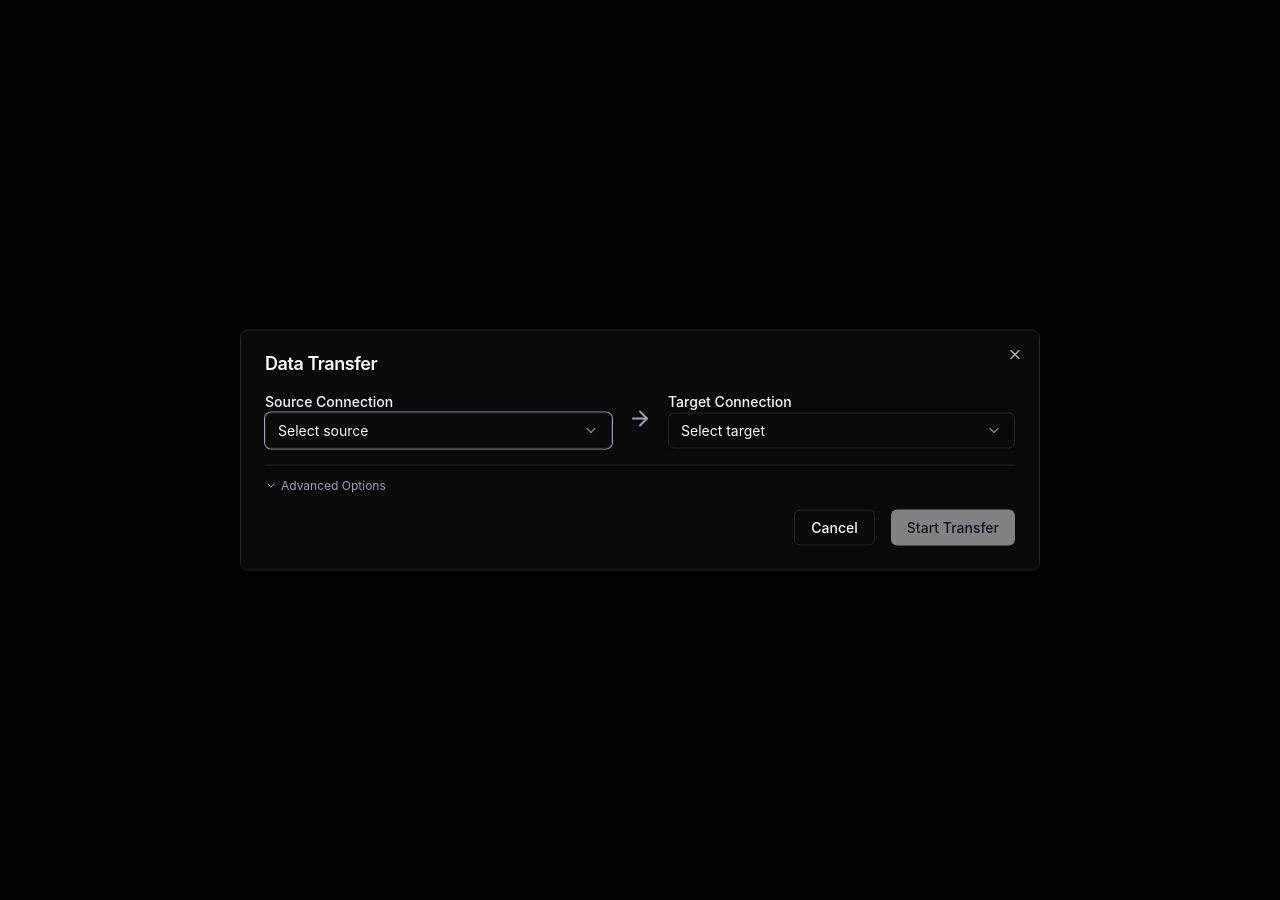
Test case: renders table checkboxes after selecting source database
The image size is (1280, 900).
Click the dropdown "Select source" at (323, 430), box [265,412,612,448]
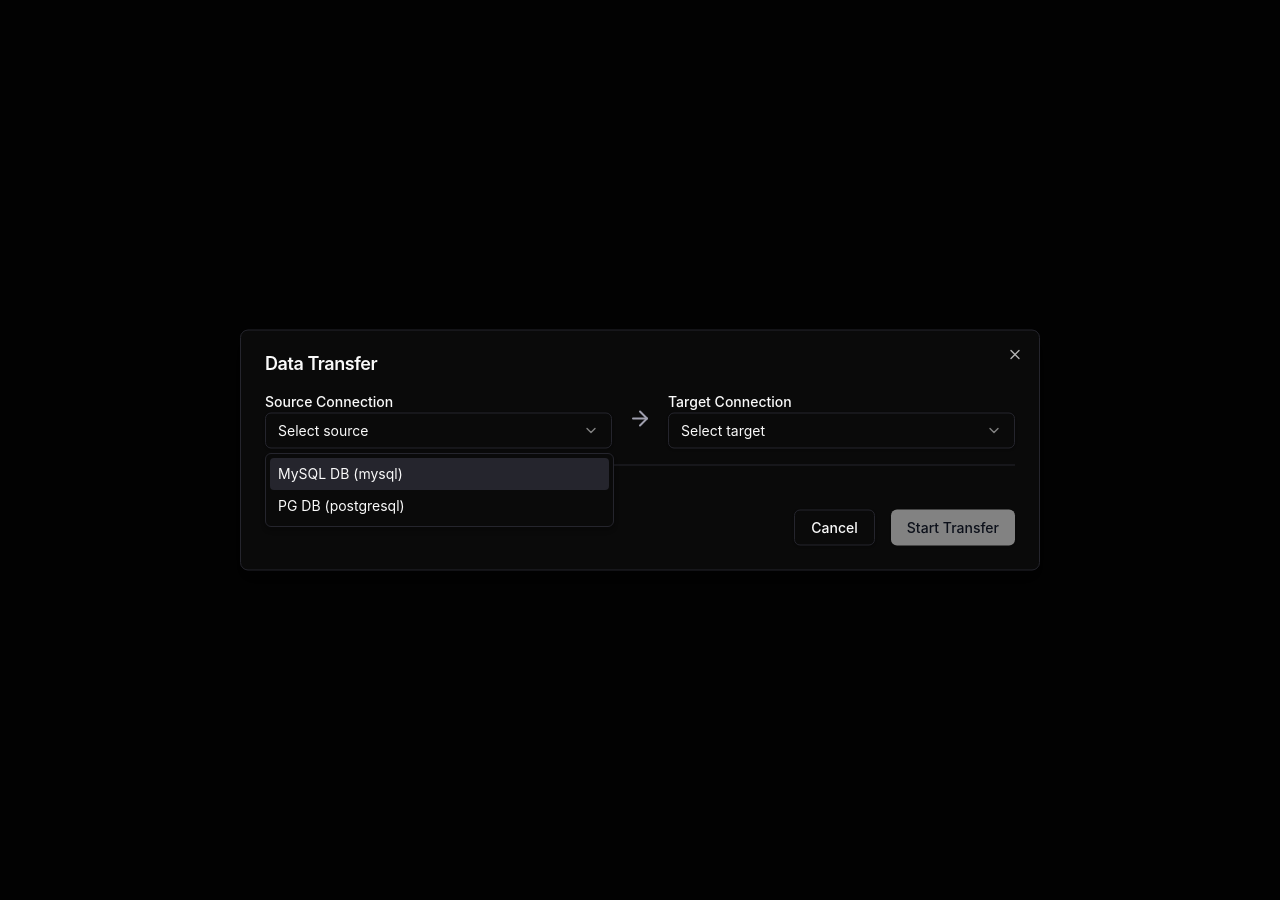
Click the option "MySQL DB (mysql)" at (314, 474), box [270,458,609,490]
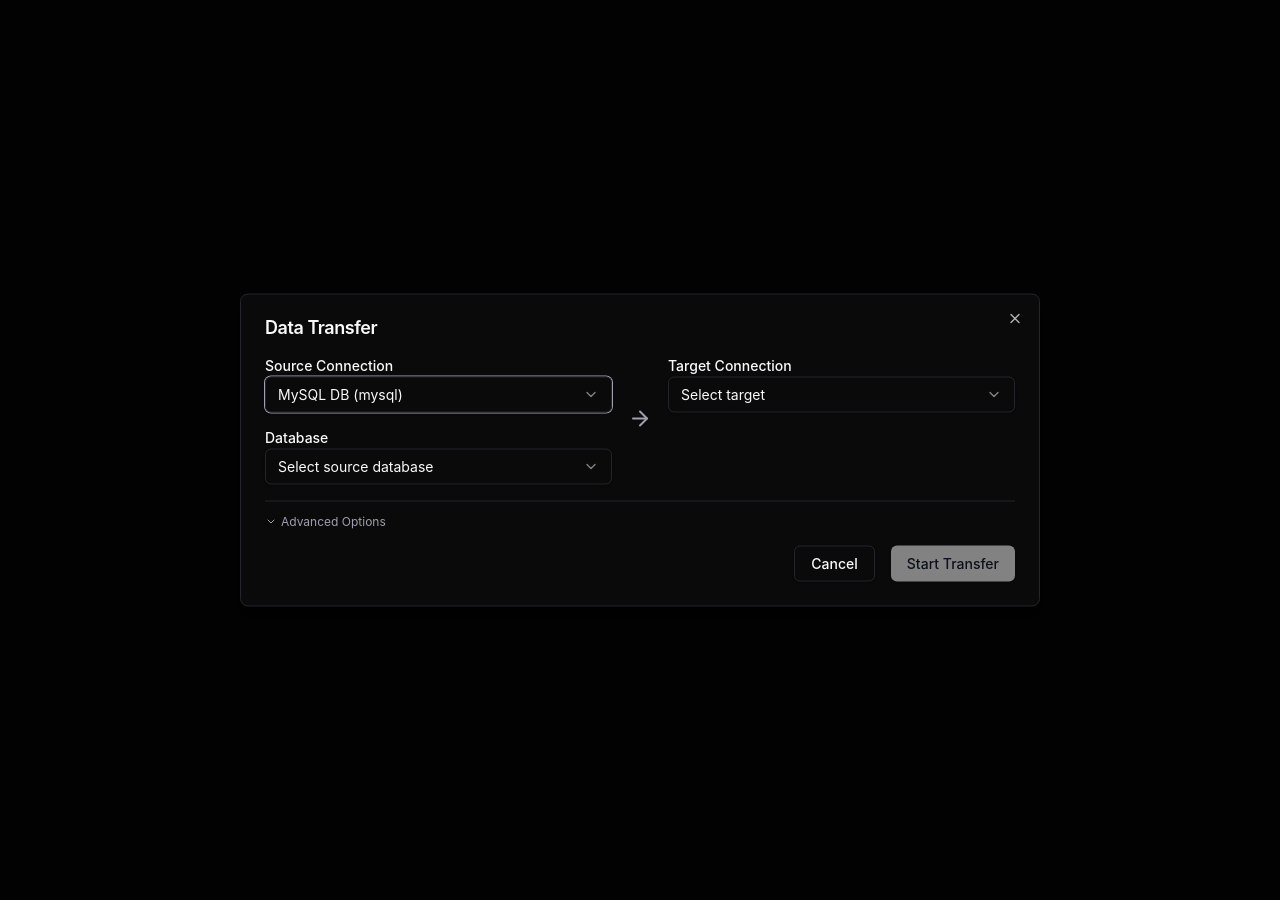
Result: the text "Select source database" is shown at [278,456,434,476]
Click the dropdown "Select source database" at (356, 466), box [265,448,612,484]
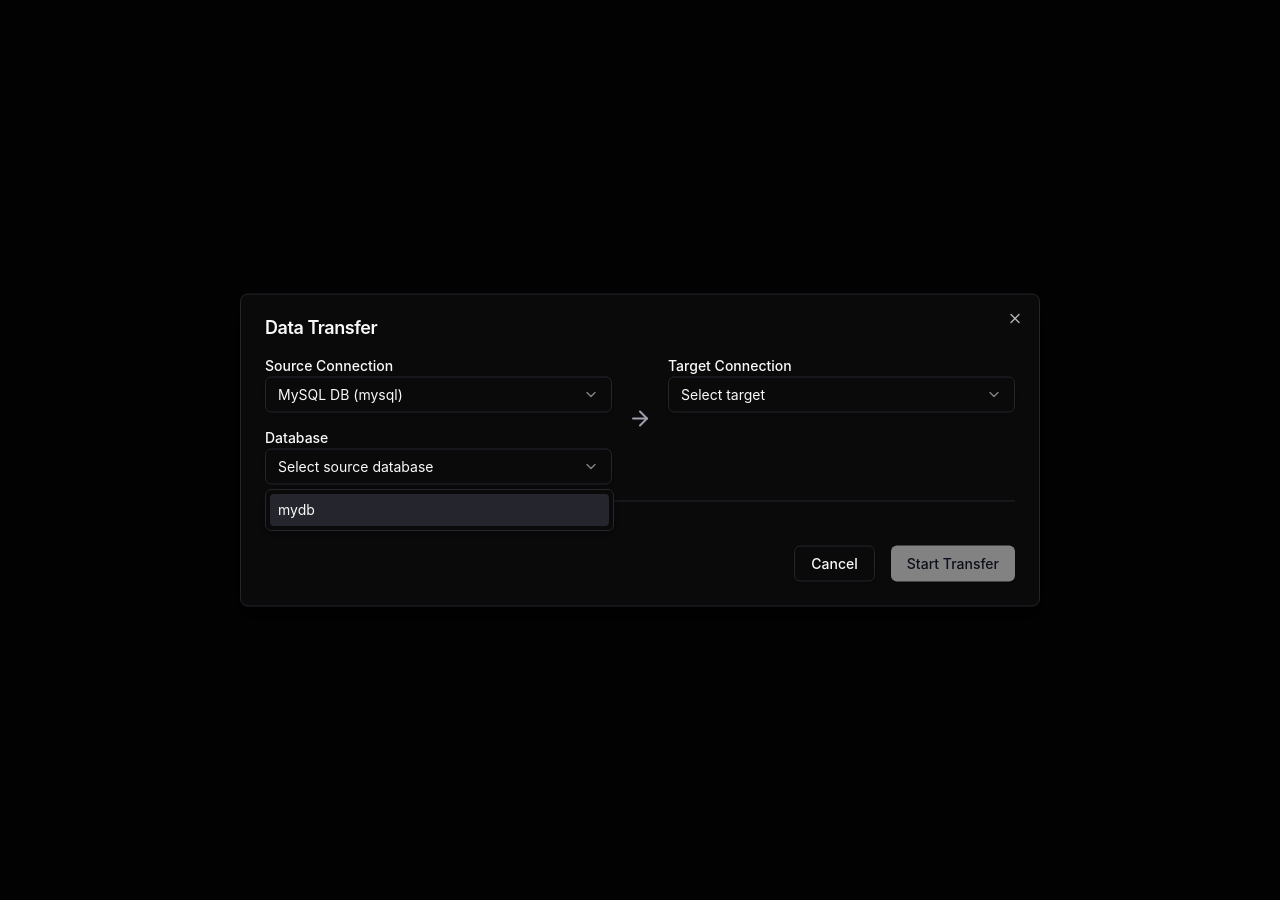
Click the option "mydb" at (296, 510), box [270,494,609,526]
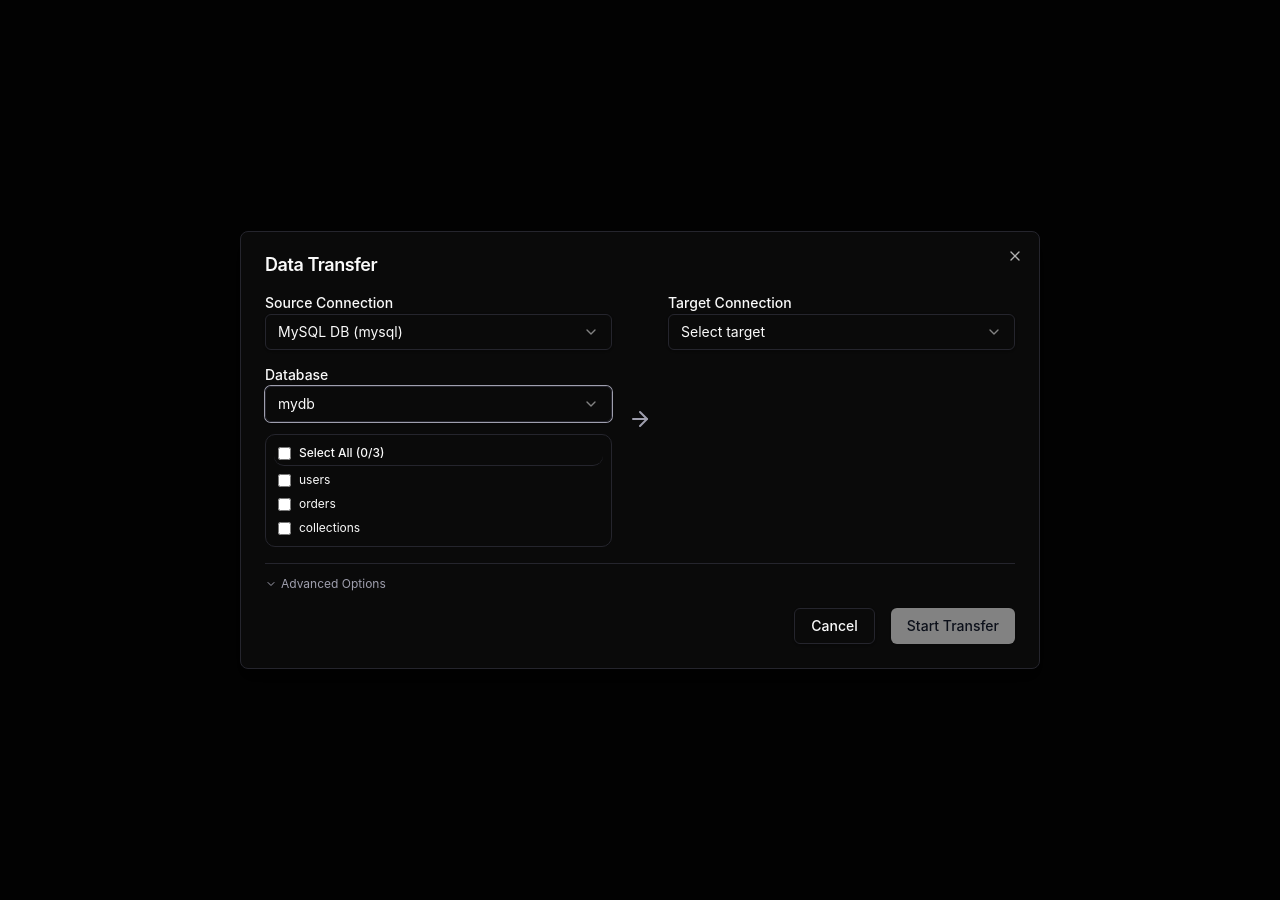
Result: the text "users" is shown at [278,472,330,487]
Result: the text "orders" is shown at [278,496,336,511]
Result: the text "collections" is shown at [278,520,360,535]
